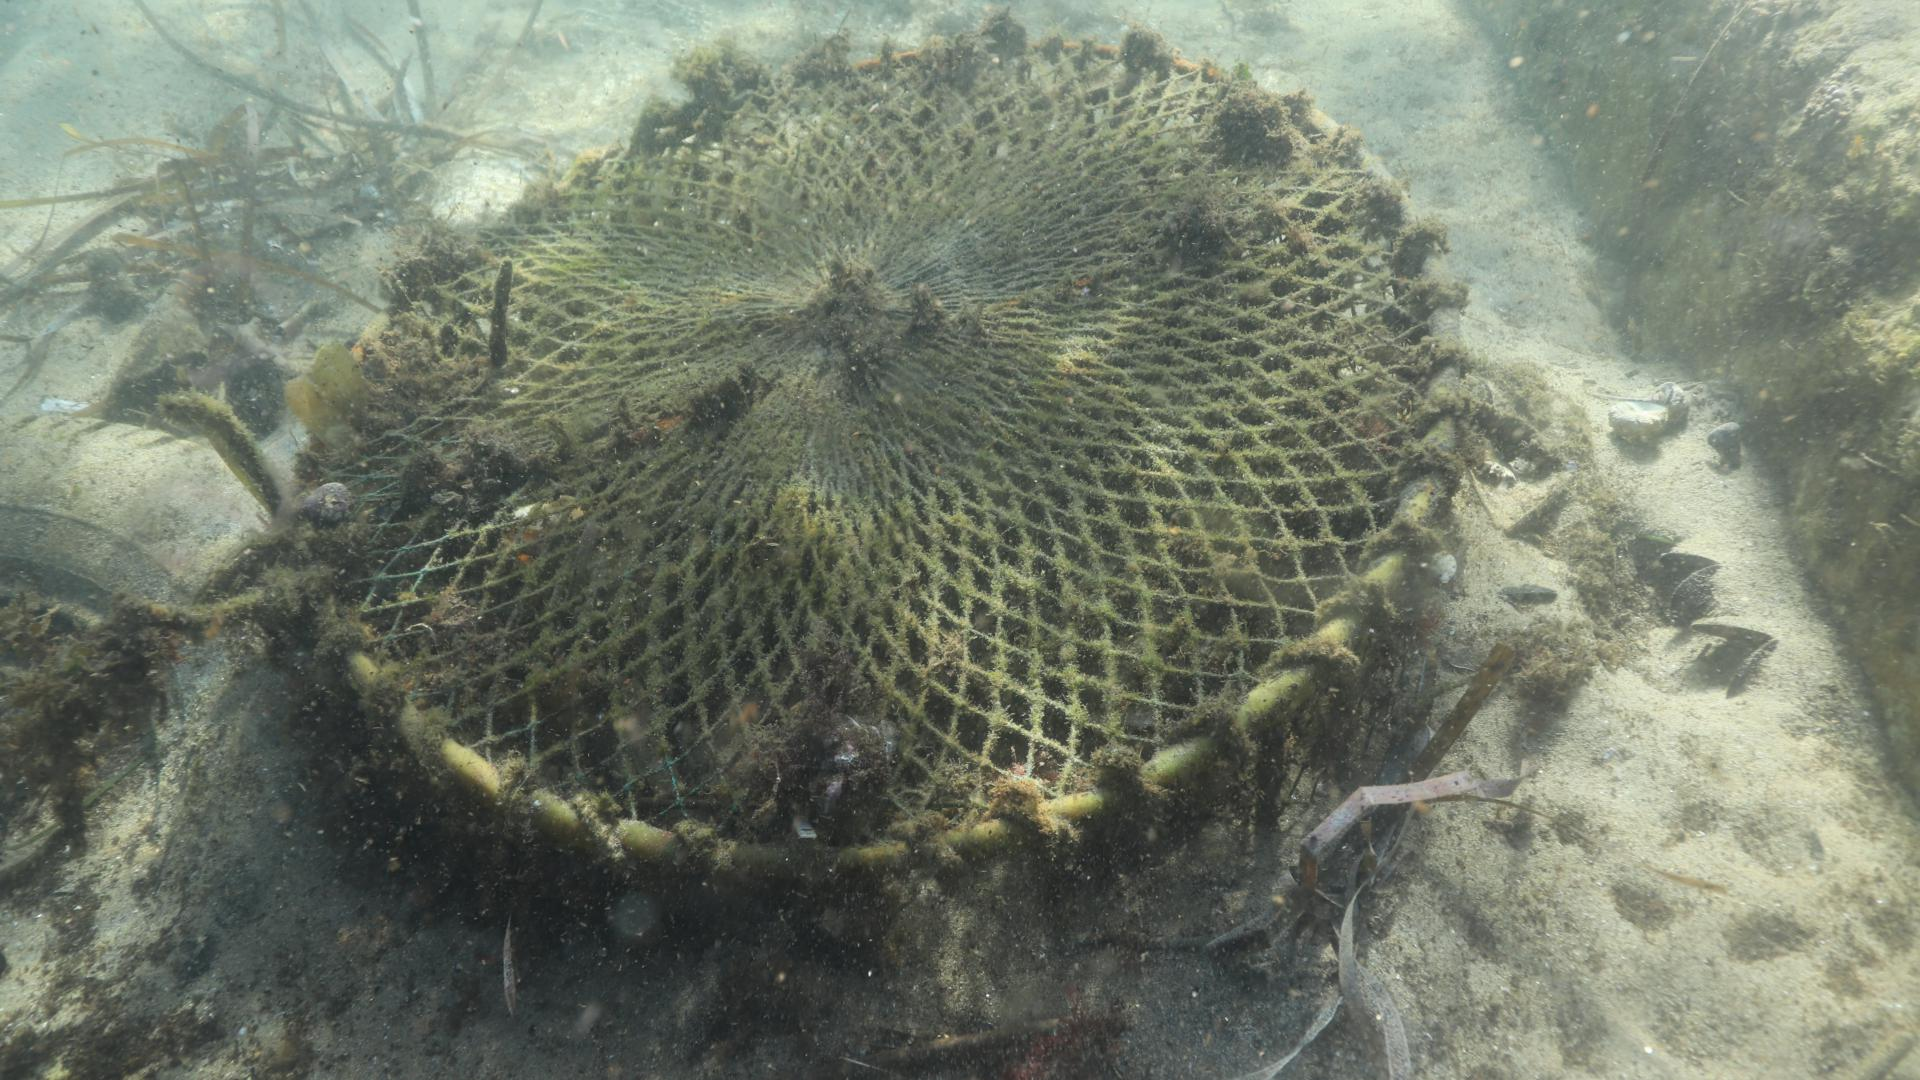circular fish trap: (287, 37, 1469, 986)
